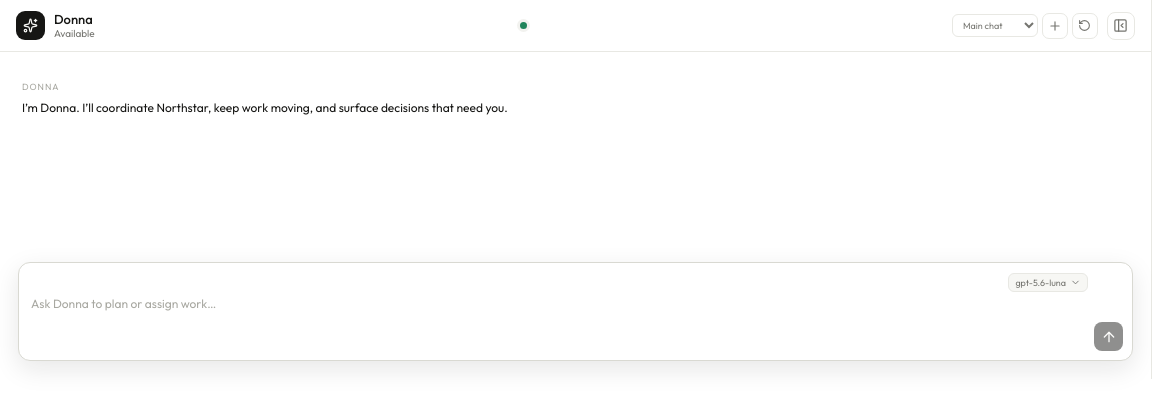
Test: DonnaRail › sends a message and renders Donna's shared-thread reply
Type "Start authentication" into the text box named "Message Donna".
click(560, 321); type("Start authentication")  # box [31, 296, 1088, 346]
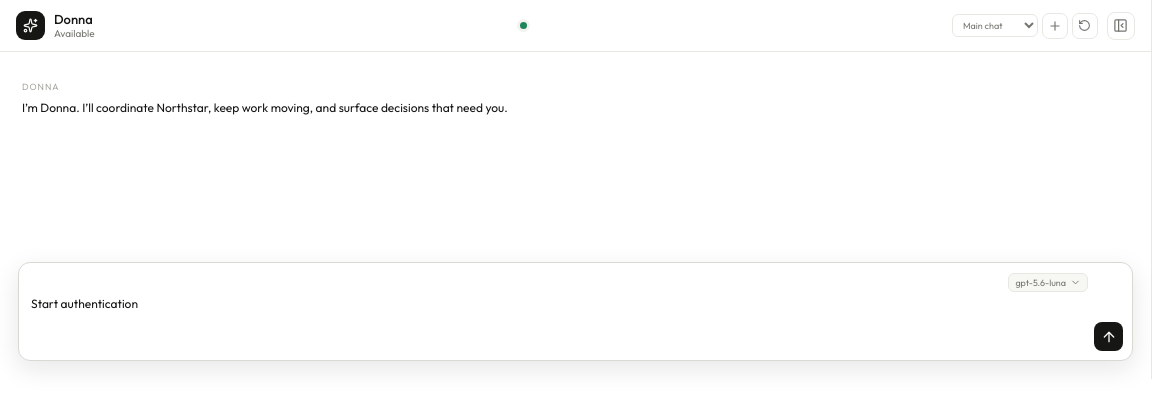
Click the button named "Send message".
click(1108, 337)  # box [1094, 322, 1123, 351]
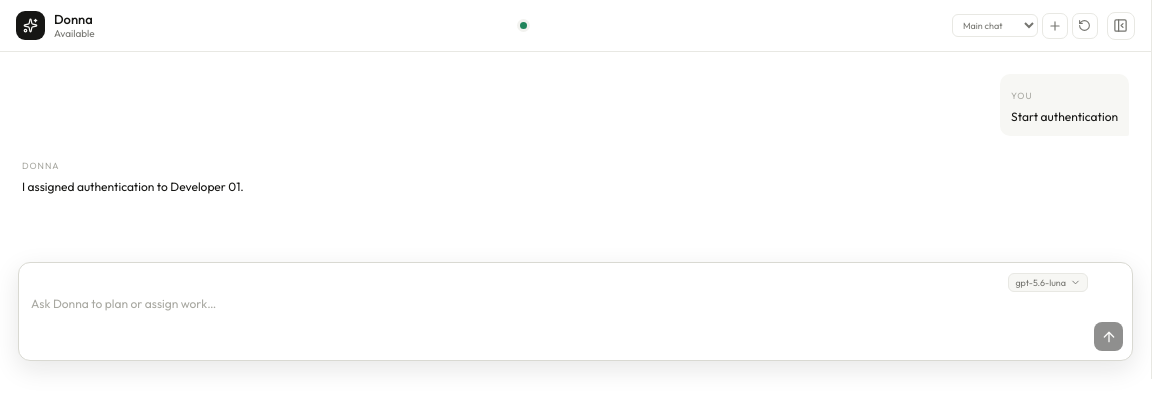
Now the text "I assigned authentication to Developer 01." is shown, box [22, 179, 244, 194]
